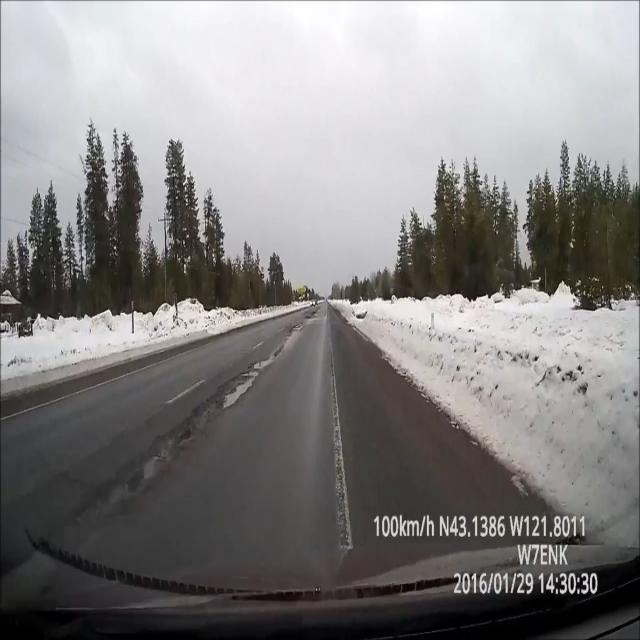Pothole: (84, 443, 178, 538), (187, 368, 260, 417)
